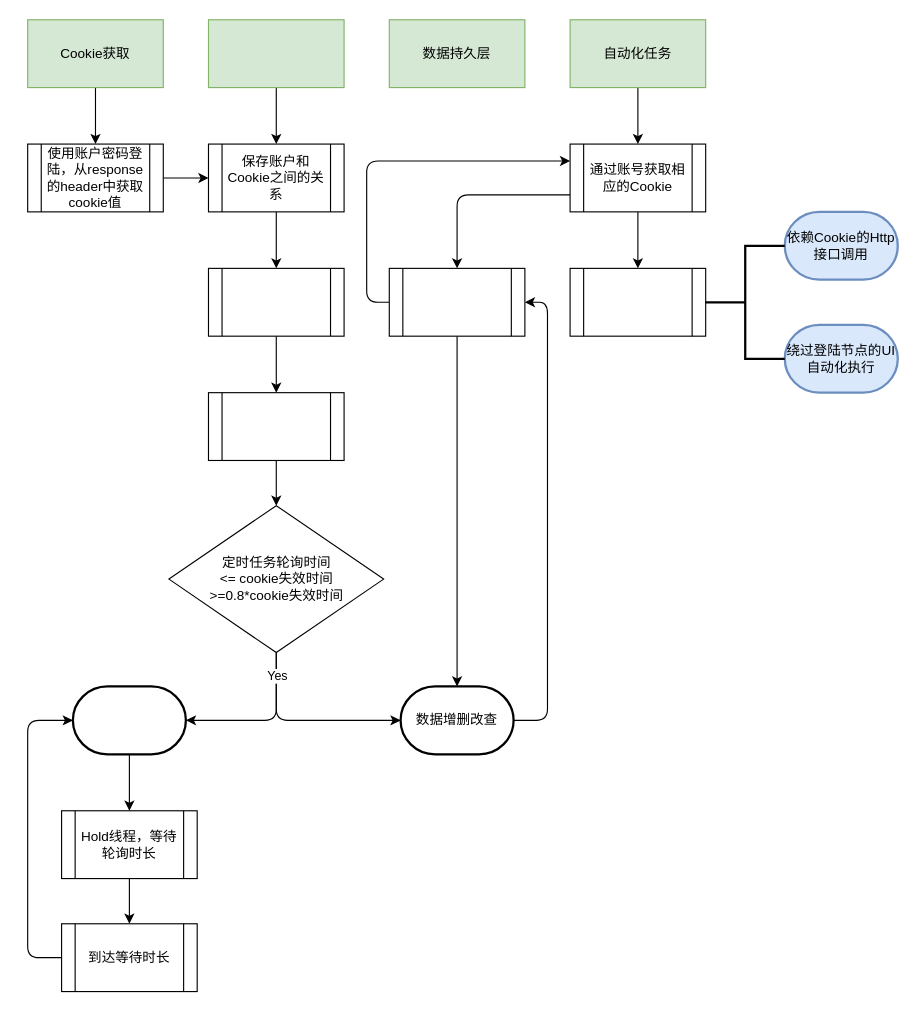
Some shapes in this 919 by 1011 pixel diagram are drawn without their labels. The shapes that lost their labels are listed below. From the top down, each one's centre as x and y in pixels, then its label:
At pixel 275 53: "Cookie微服务".
At pixel 275 301: "配置Cookie的最长时效时间".
At pixel 456 301: "持久化存储".
At pixel 637 301: "携带Cookie的执行自动化任务".
At pixel 275 426: "触发轮询服务".
At pixel 128 720: "执行使用cookie的接口 （比如查询）".
